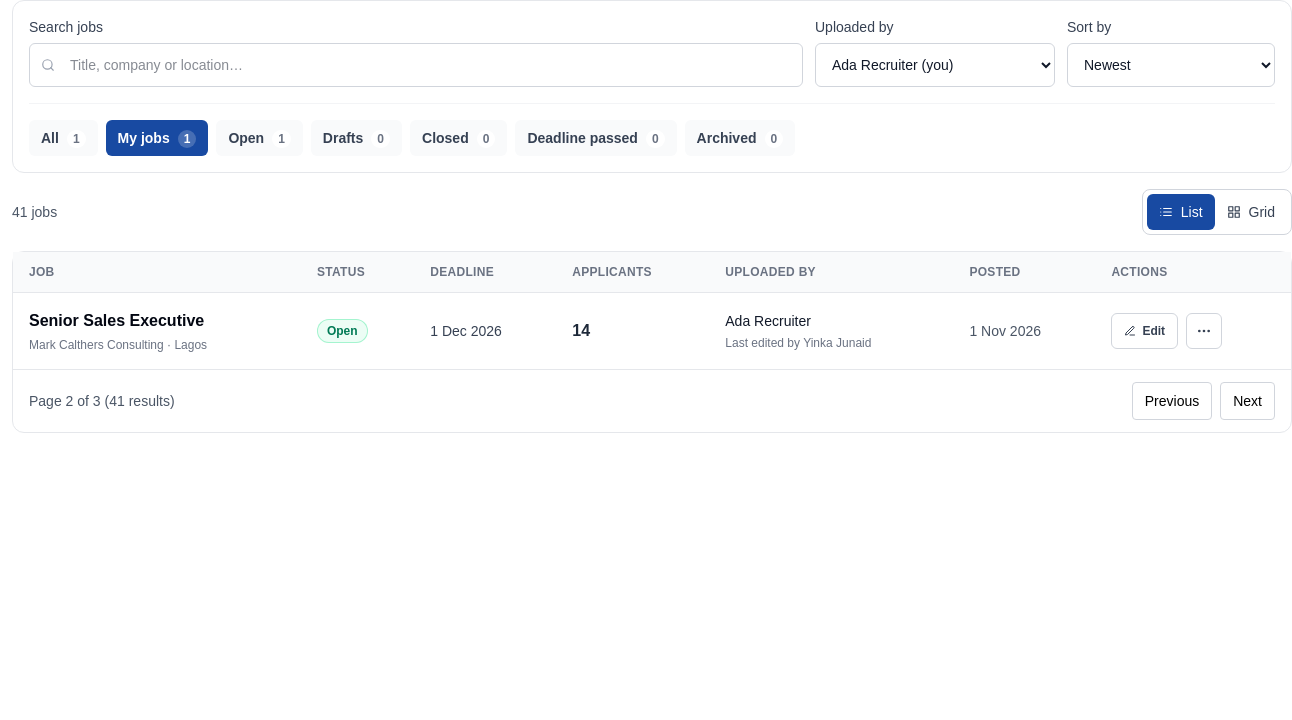
Test case: staff jobs directory layouts › does not link to application records for staff without application review access
Step 1. Click the button "Grid" → (1251, 212), box [1214,194,1287,230]
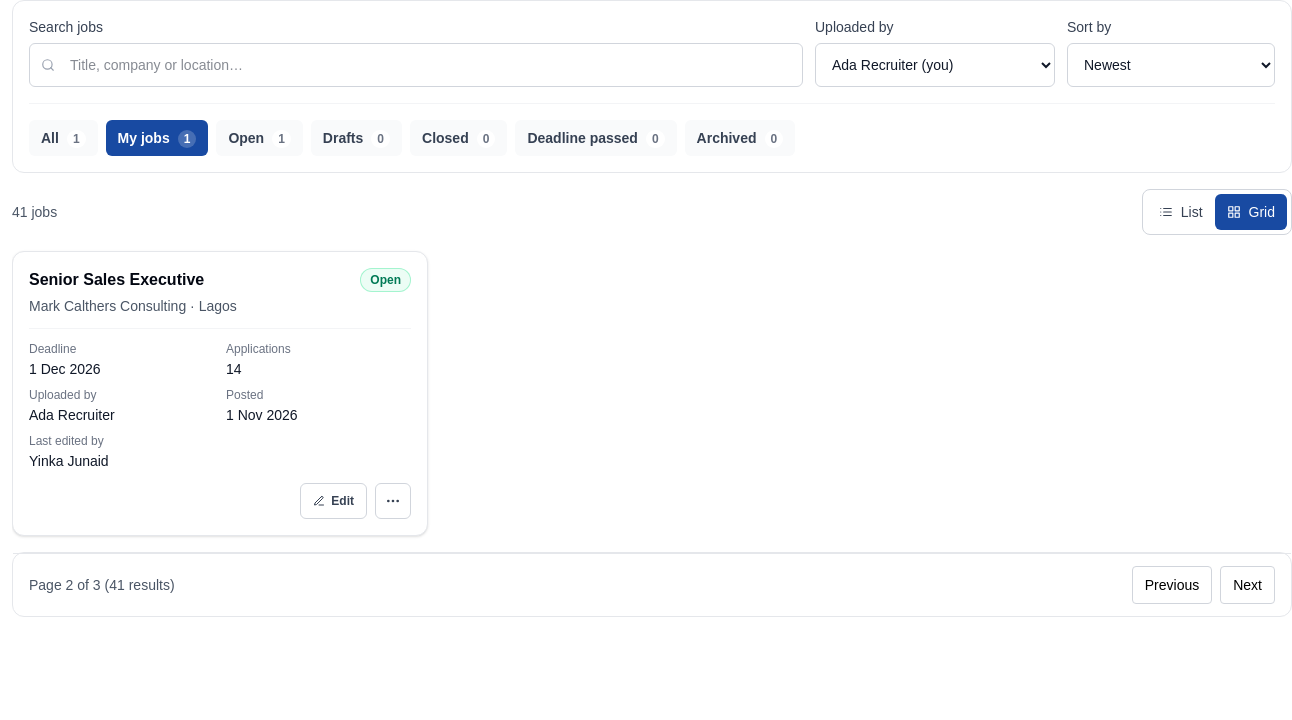
Check: the element "Senior Sales Executive" shows "14", box [226,361,242,377]
